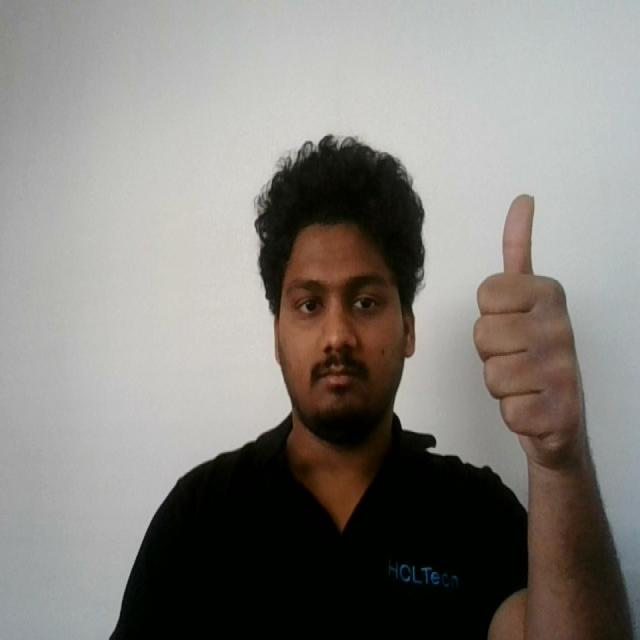Yes: (468, 188, 603, 483)
